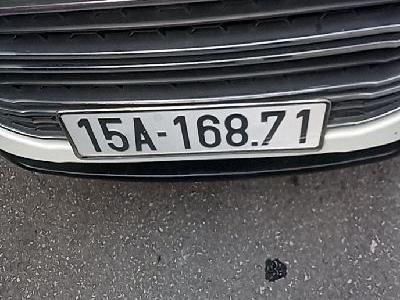number: (57, 100, 329, 161)
